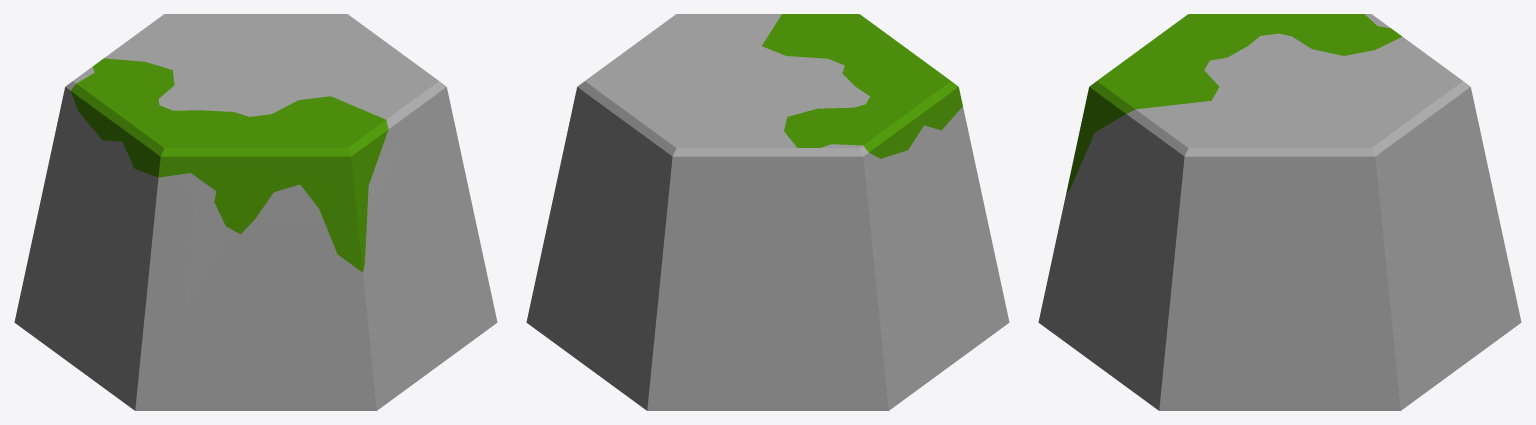
The model's file is RPG_Tiles_Hex_Rock_Moss_Large_02.FBX.
3 views of the same model, side by side, from view 1: azimuth 30°, elevation 25°; view 2: azimuth 150°, elevation 25°; view 3: azimuth 270°, elevation 25° (orthographic).
Visible parts, largest first — view 1: RPG_Tiles_Hex_Rock_Moss_Large_02; view 2: RPG_Tiles_Hex_Rock_Moss_Large_02; view 3: RPG_Tiles_Hex_Rock_Moss_Large_02.
Part boxes in pixels (box(x1,y1,x2,y2)): RPG_Tiles_Hex_Rock_Moss_Large_02: box(14, 14, 497, 410); RPG_Tiles_Hex_Rock_Moss_Large_02: box(526, 14, 1009, 410); RPG_Tiles_Hex_Rock_Moss_Large_02: box(1038, 14, 1521, 410).
Size of the model in its own units: 2346 by 1495 by 2709.
